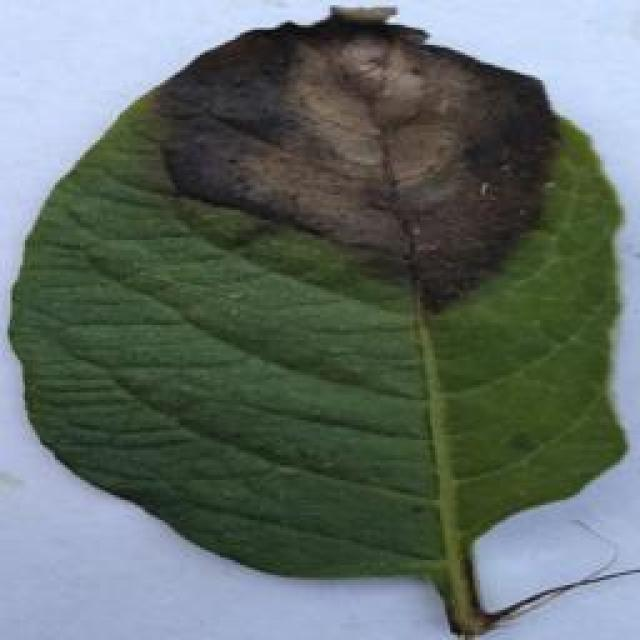Potato_Late_Blight: (4, 15, 636, 639)
